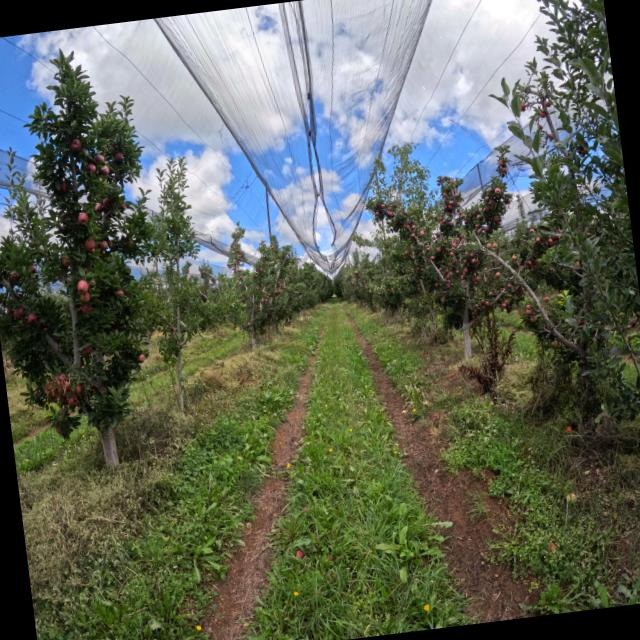-FireBlight-: (44, 377, 76, 405)
